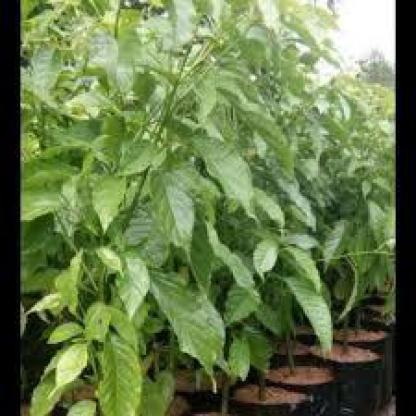Melati: (103, 17, 393, 396)
